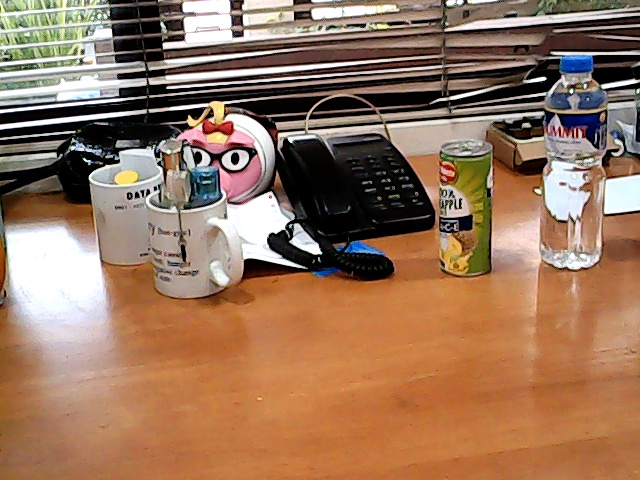Pine Juice: (427, 126, 508, 287)
Summit Water: (526, 40, 627, 287)
